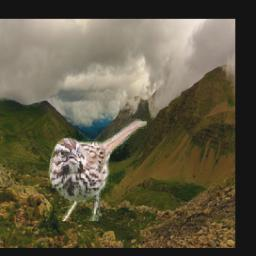Sparrow: (47, 119, 147, 222)
